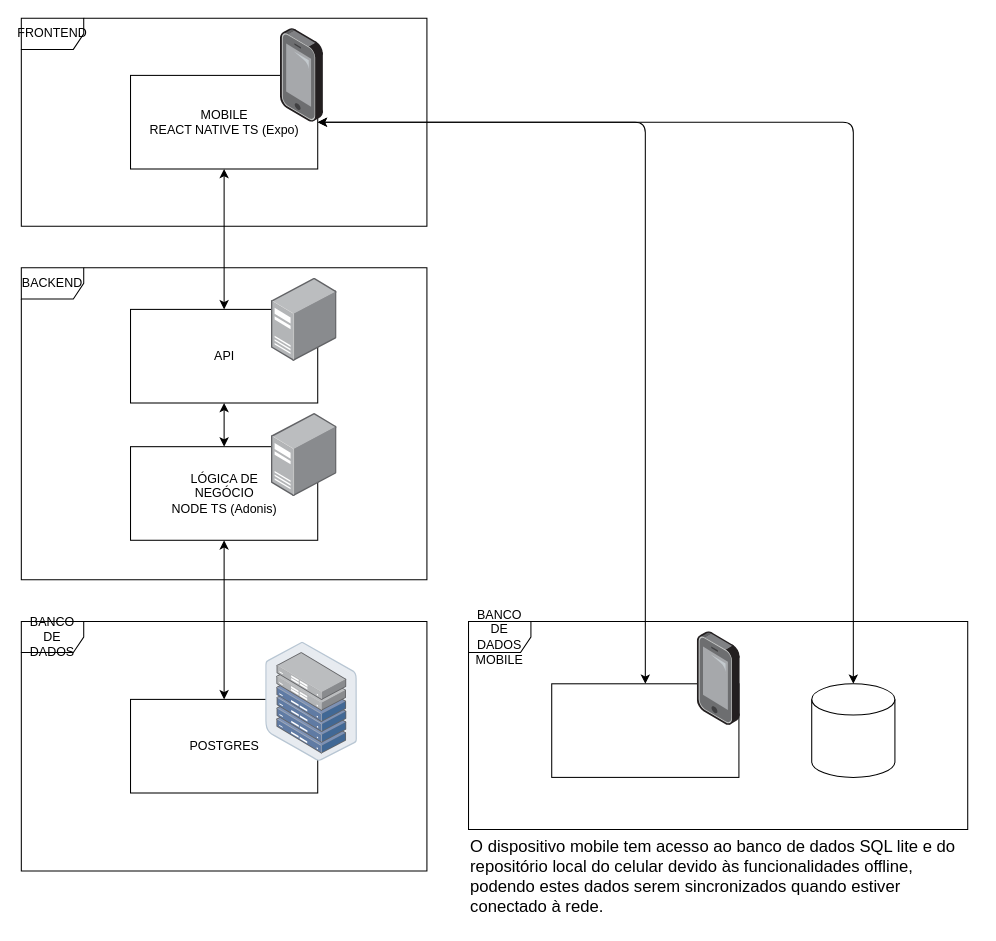
Some shapes in this 996 by 941 pixel diagram are drawn without their labels. Here are the shapes that lost their labels. From the top down, the centre of each, then its label:
point 645,730: REPOSITÓRIO LOCAL
point 853,730: SQL lite
